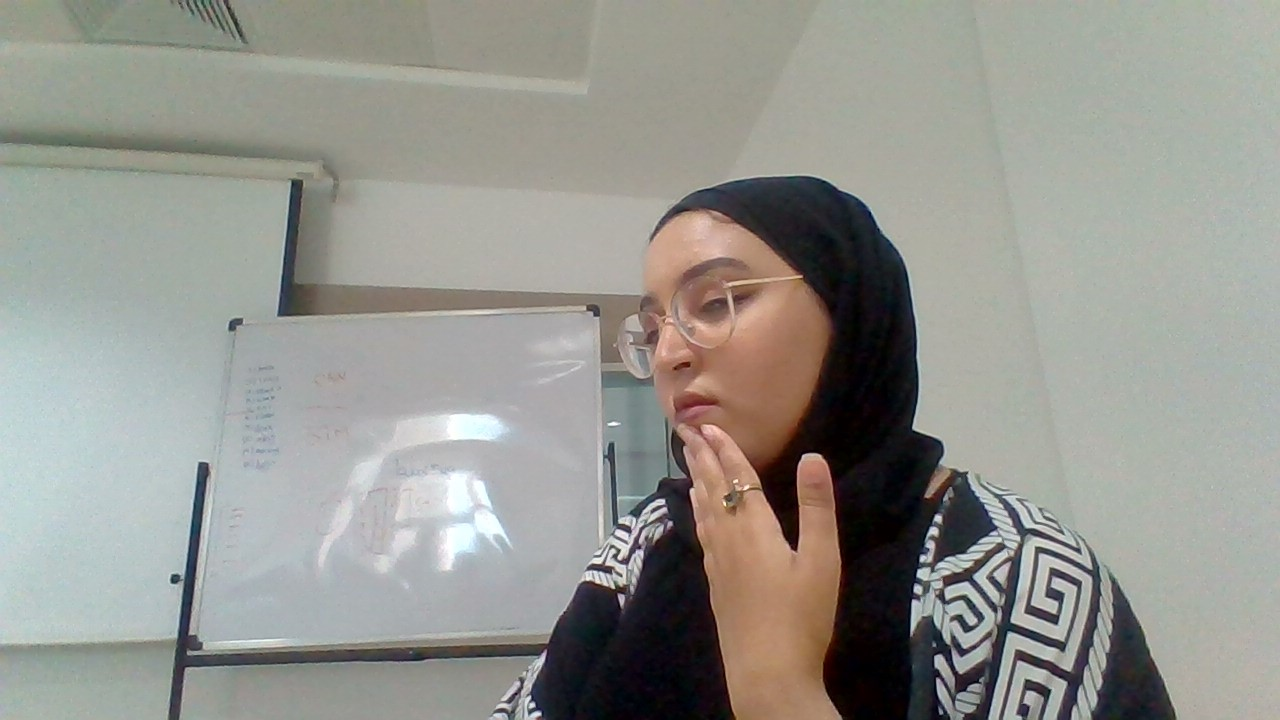thankyou: (664, 418, 847, 720)
